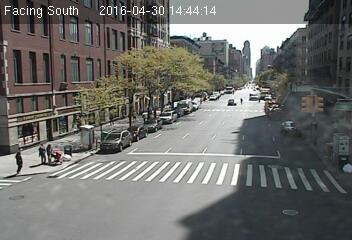neg: (167, 146, 197, 187), (239, 146, 265, 182), (286, 93, 312, 128), (58, 32, 80, 63), (100, 169, 121, 198), (155, 68, 176, 95), (8, 75, 29, 102), (210, 90, 230, 117), (236, 40, 255, 66), (248, 92, 267, 117), (84, 105, 101, 128), (127, 88, 139, 105)
pos: (7, 145, 33, 179), (32, 138, 50, 162), (47, 142, 63, 163)
